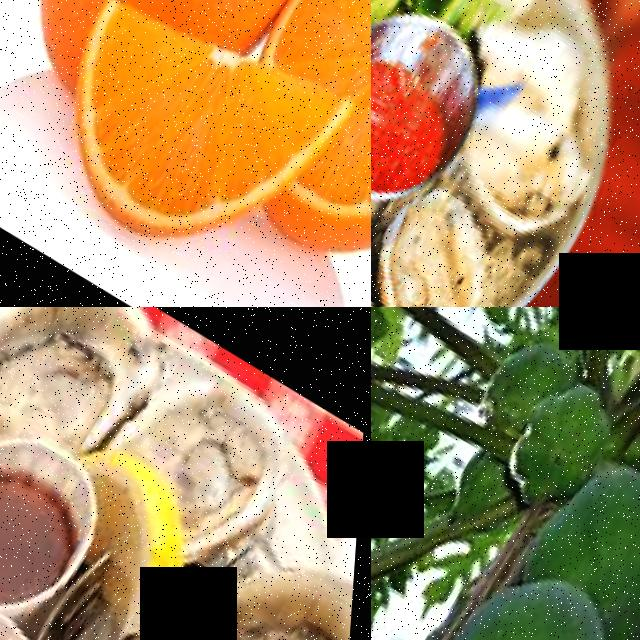orange: (30, 0, 362, 279)
oysters: (103, 503, 360, 640), (0, 307, 177, 462), (371, 168, 531, 307)
pawpaw: (396, 541, 640, 640), (520, 439, 640, 634), (490, 359, 630, 516)
